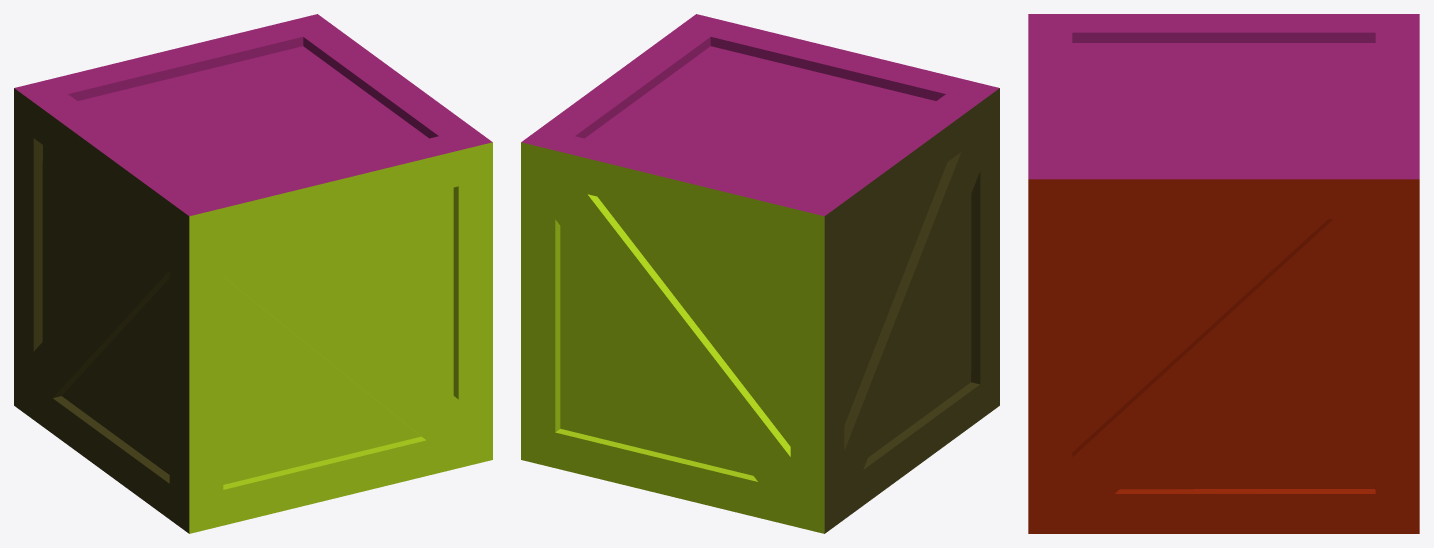
The picture shows the model from 3 angles, left to right: view 1: azimuth 30°, elevation 25°; view 2: azimuth 150°, elevation 25°; view 3: azimuth 270°, elevation 25°; orthographic projection. The views are drawn at different scales.
Visible parts, largest first — view 1: Box001; view 2: Box001; view 3: Box001.
Part boxes in pixels (x1,y1,x2,y2): Box001: (14,14,492,533); Box001: (521,14,999,533); Box001: (1028,14,1419,533).
Bounding box in the file's own units: 5000 × 5000 × 5000.
